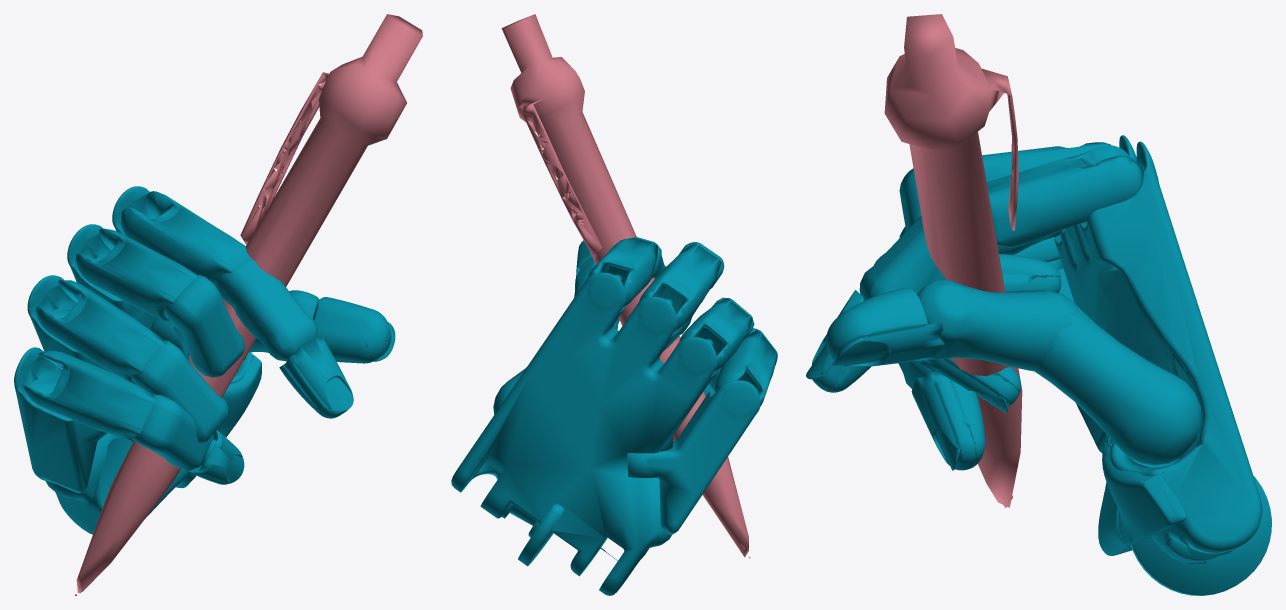
The picture shows the model from 3 angles, left to right: view 1: azimuth 30°, elevation 25°; view 2: azimuth 150°, elevation 25°; view 3: azimuth 270°, elevation 25°; orthographic projection. The views are drawn at different scales.
Parts seen in each view (by area): view 1: world; view 2: world; view 3: world.
Boxes of the visible parts, left/top/right/bottom form: world: left=14, top=14, right=422, bottom=595; world: left=451, top=14, right=777, bottom=595; world: left=806, top=14, right=1271, bottom=595.
Bounding box in the file's own units: 0.1393 × 0.2041 × 0.1263.
